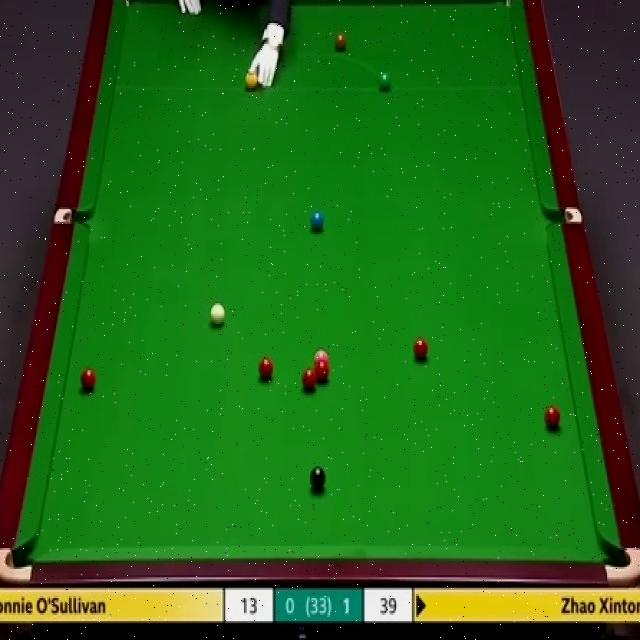black-ball: (310, 464, 326, 491)
blue-ball: (310, 209, 325, 233)
brown-ball: (334, 32, 347, 53)
green-ball: (377, 70, 391, 92)
pink-ball: (313, 350, 330, 364)
red-ball: (80, 366, 97, 394), (544, 407, 562, 430), (413, 337, 428, 362), (314, 361, 331, 383), (258, 358, 273, 381), (302, 370, 317, 391)
white-ball: (208, 304, 225, 329)
yellow-ball: (244, 73, 258, 91)
